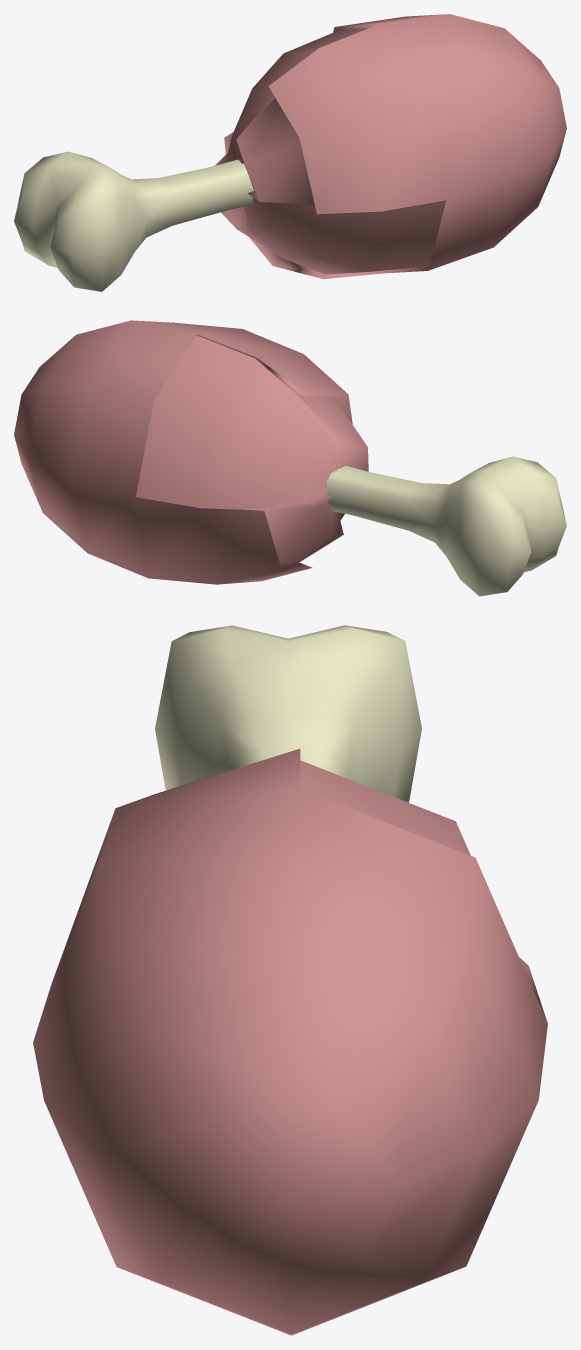
File: RawDrumstick.fbx
The picture shows the model from 3 angles, top to bottom: view 1: azimuth 30°, elevation 25°; view 2: azimuth 150°, elevation 25°; view 3: azimuth 270°, elevation 25°; orthographic projection. The views are drawn at different scales.
Visible parts, largest first — view 1: Sphere, Bone; view 2: Sphere, Bone; view 3: Sphere, Bone.
Boxes of the visible parts, x1,y1,x2,y2 form: Sphere: (215,14,566,279); Bone: (14,151,253,291); Sphere: (14,320,368,584); Bone: (326,456,566,596); Sphere: (33,748,547,1335); Bone: (155,625,421,802).
Bounding box in the file's own units: 1.17 × 0.5254 × 0.5006.
